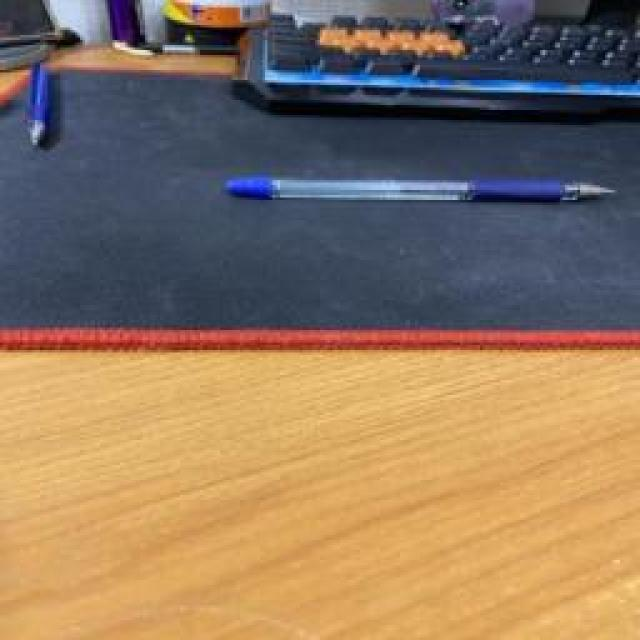pen: (225, 172, 620, 208)
